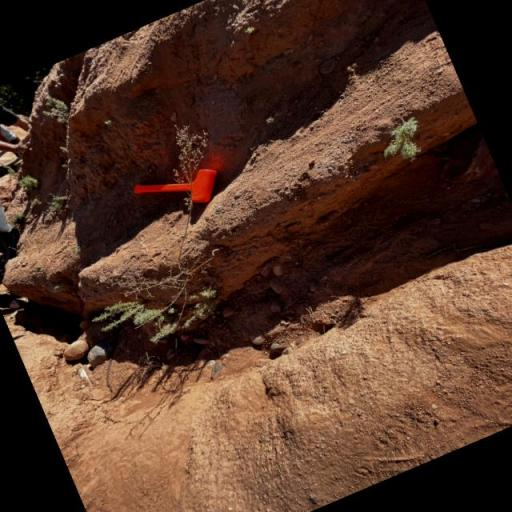mallet: (131, 154, 226, 227)
